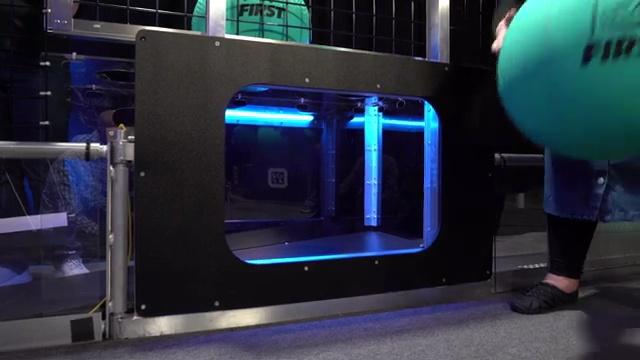ALGAE: (495, 0, 639, 162), (192, 0, 310, 46)
